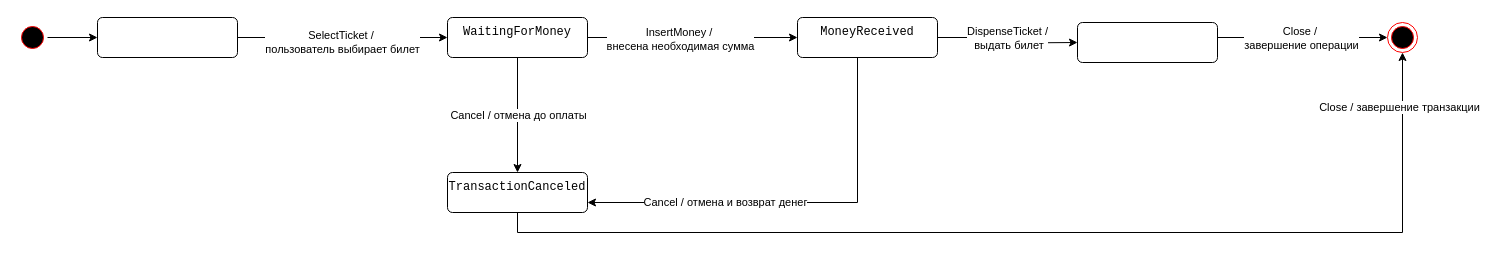
This 1497x258 diagram has some shape labels left out. Each missing label, with the box of its shape:
Idle: (96, 16, 238, 58)
TicketDispensed: (1076, 22, 1218, 62)
